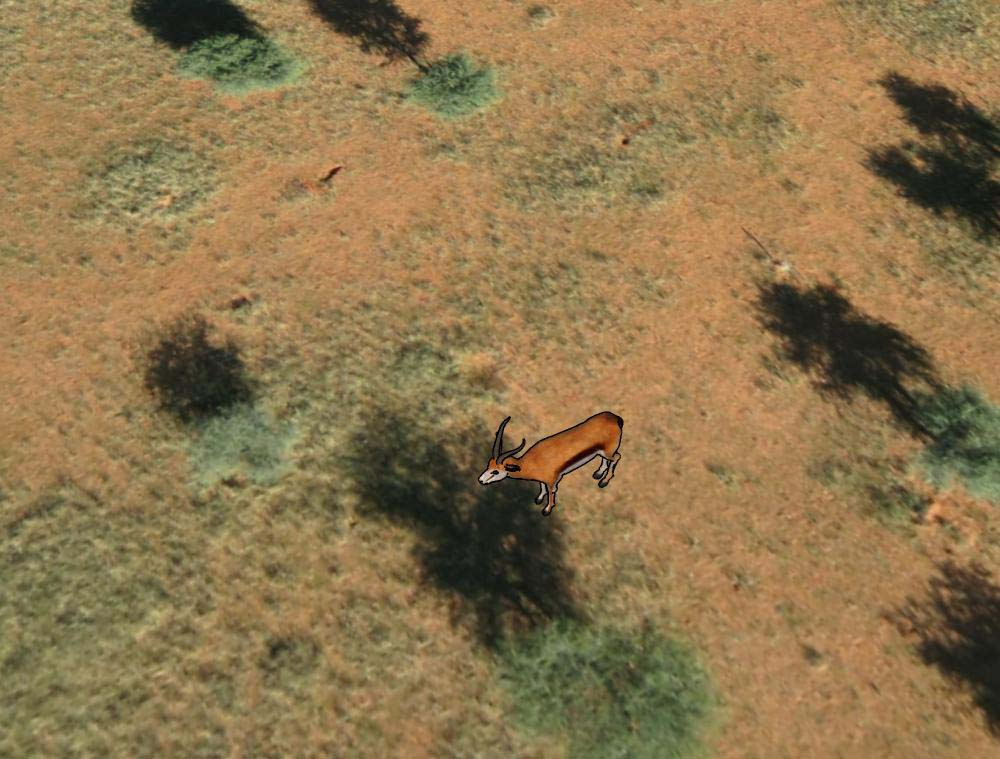springbok: (476, 408, 625, 519)
